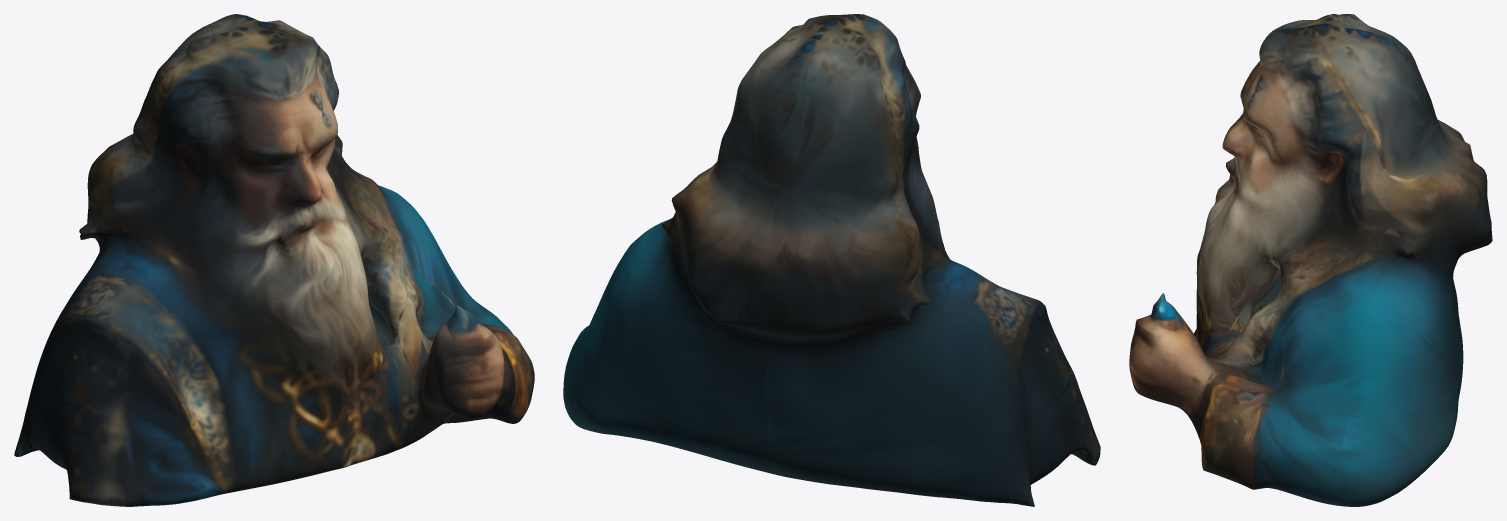
File: Elyan_0617165727.glb
3 views of the same model, side by side, from view 1: azimuth 30°, elevation 25°; view 2: azimuth 150°, elevation 25°; view 3: azimuth 270°, elevation 25° (orthographic). The views are drawn at different scales.
Size of the model in its own units: 1.2 by 1.03 by 0.8801.
1 material, 1 textured.
